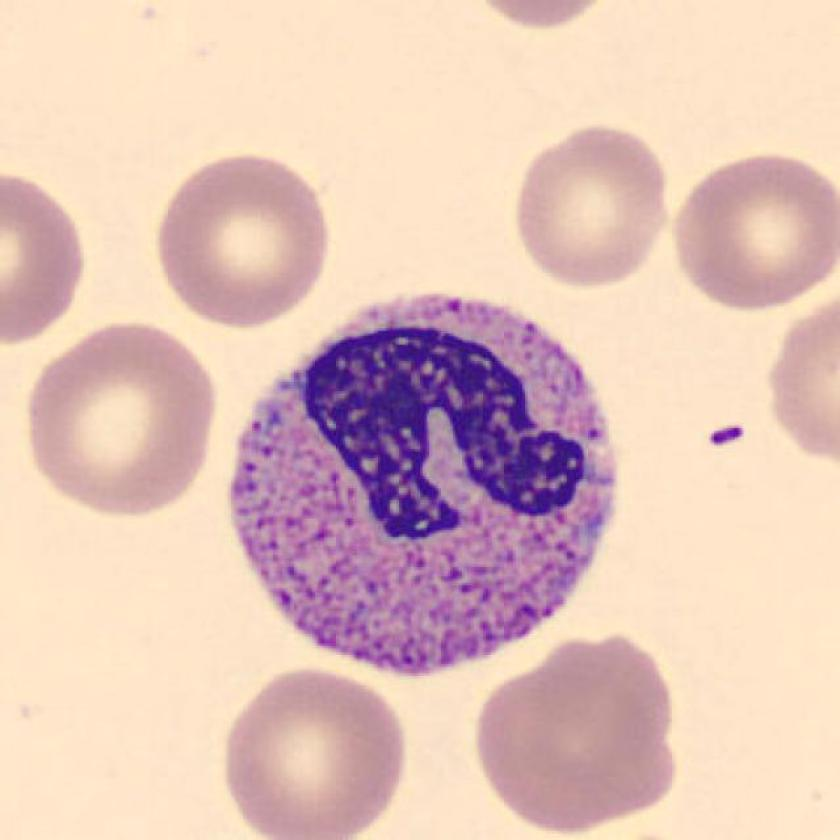neutrophil: (219, 287, 622, 678)
